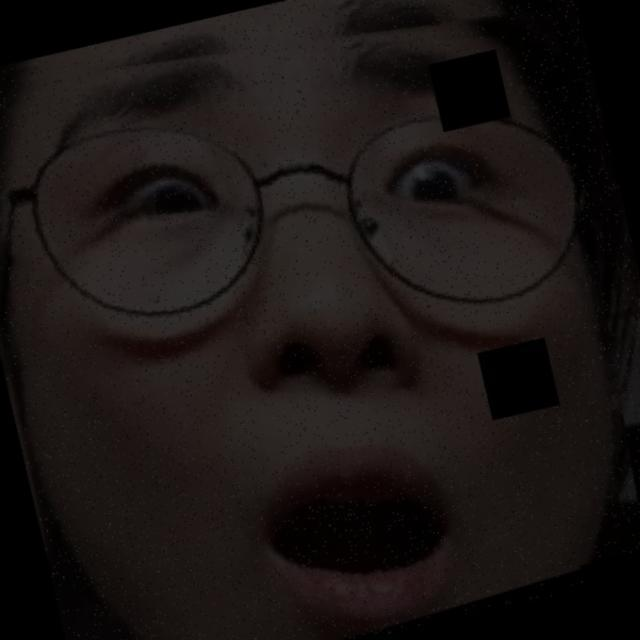Surprised: (71, 43, 640, 640)
